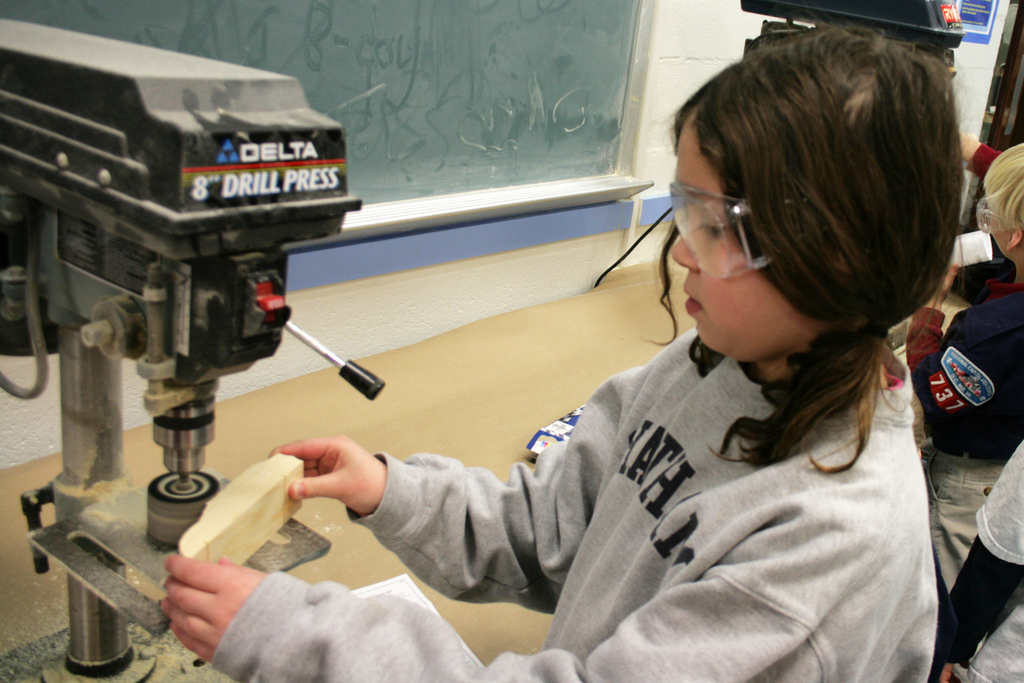Human_hand: (158, 550, 270, 663), (267, 443, 383, 527), (928, 267, 961, 300)
